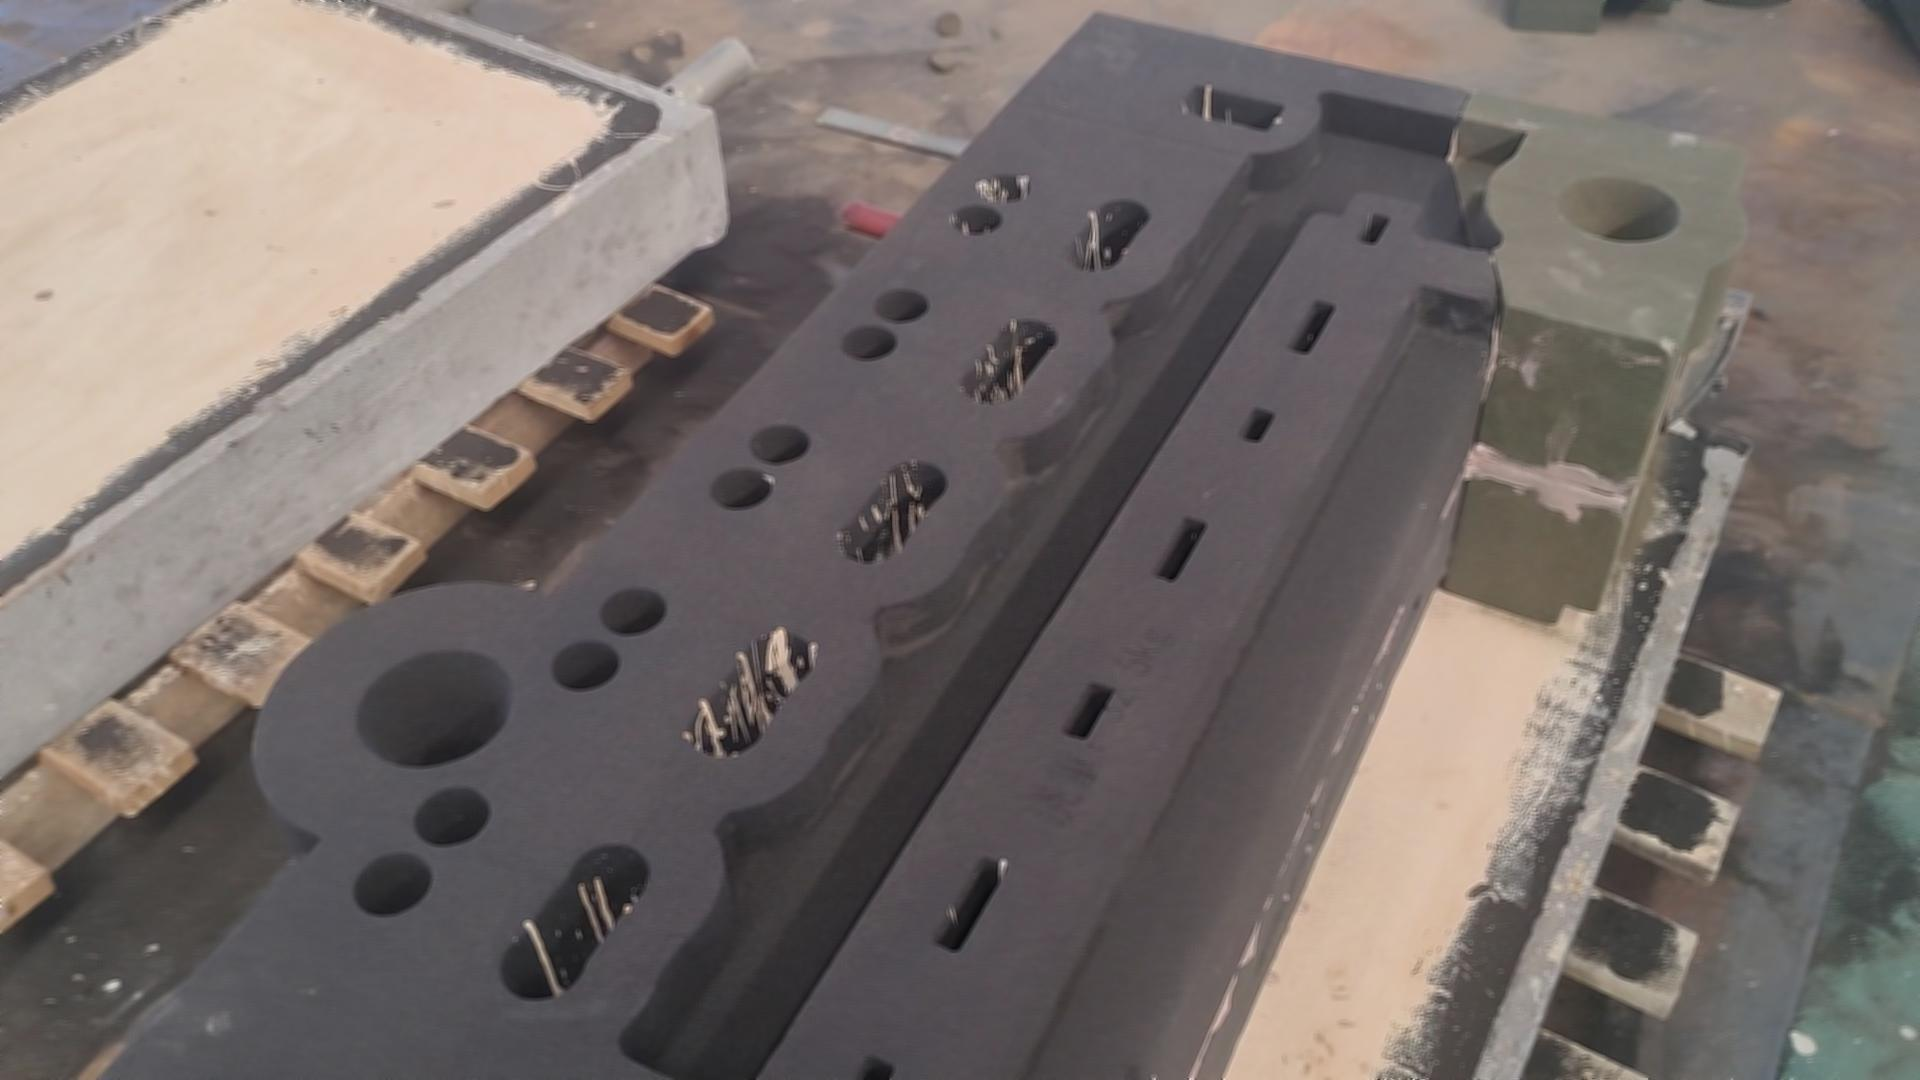pouring hole: (355, 649, 514, 767), (1557, 177, 1681, 243)
